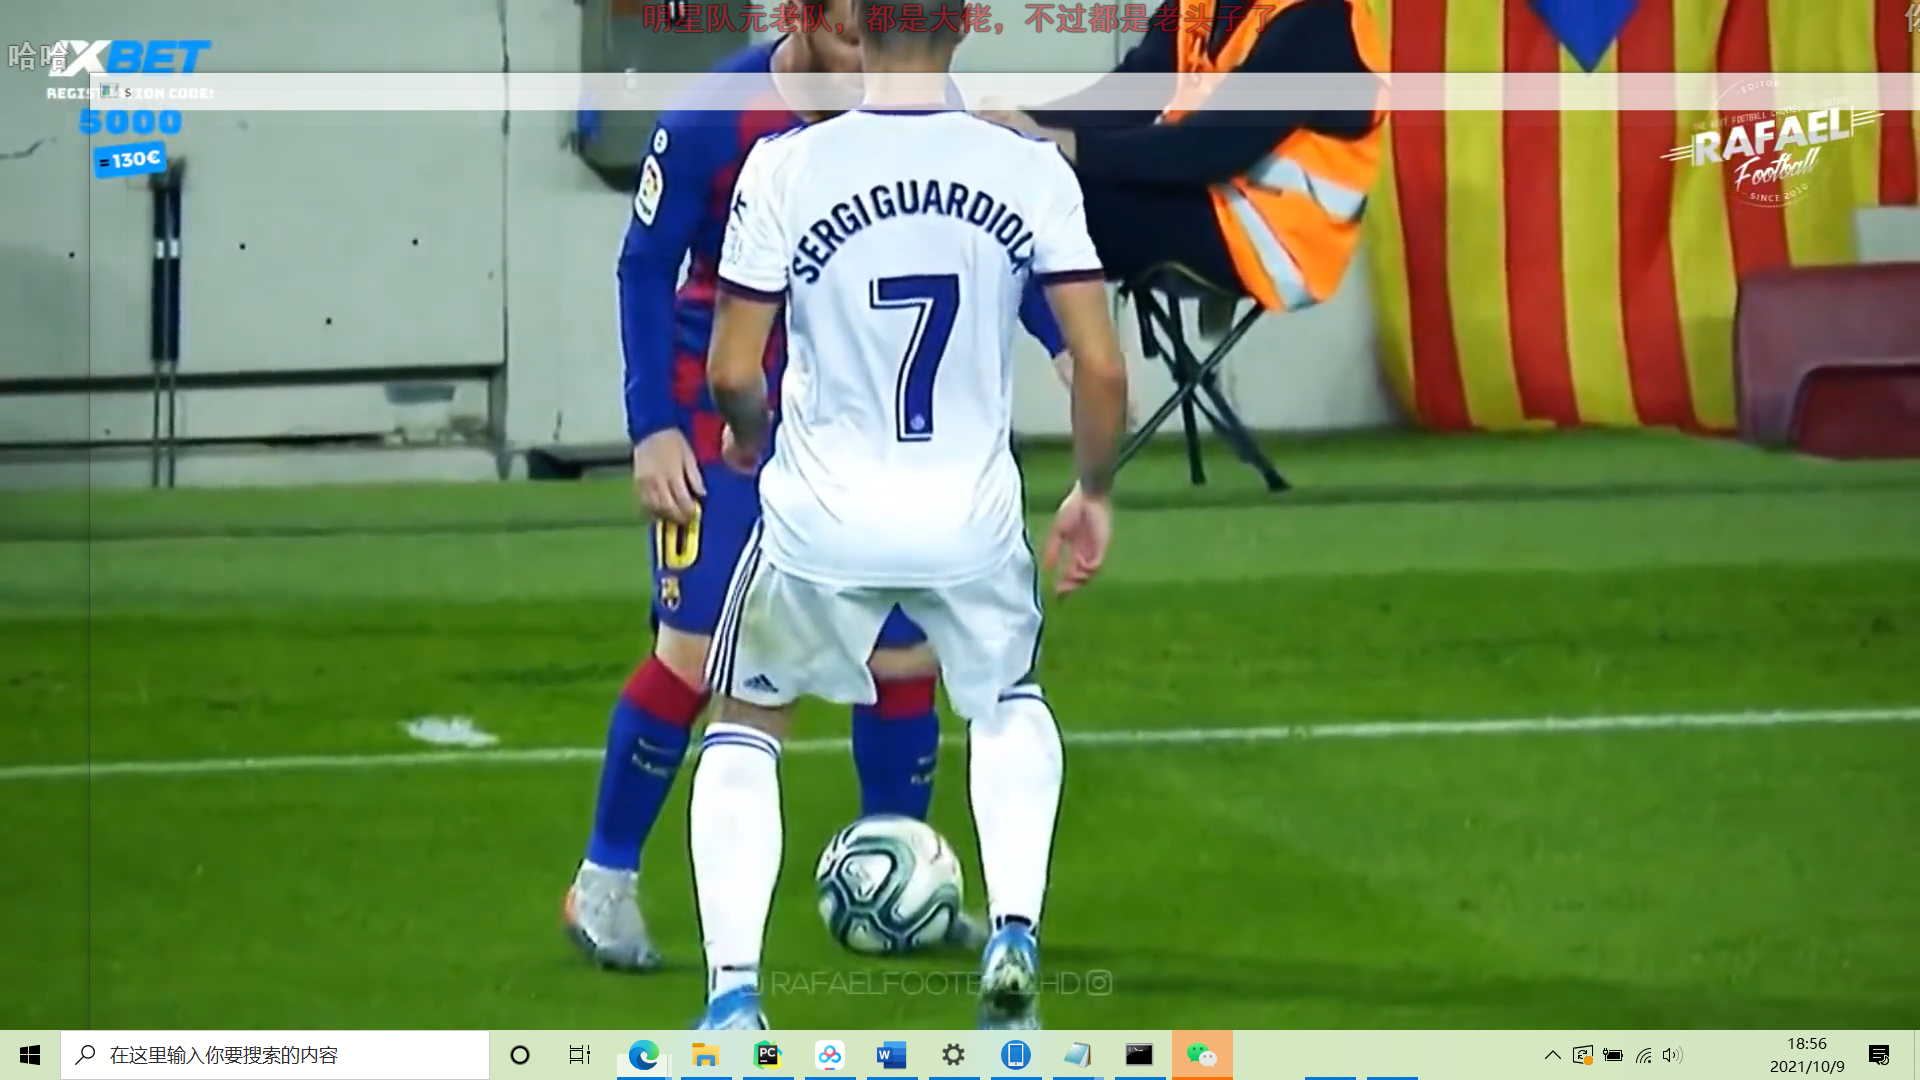ft: (807, 808, 971, 967)
